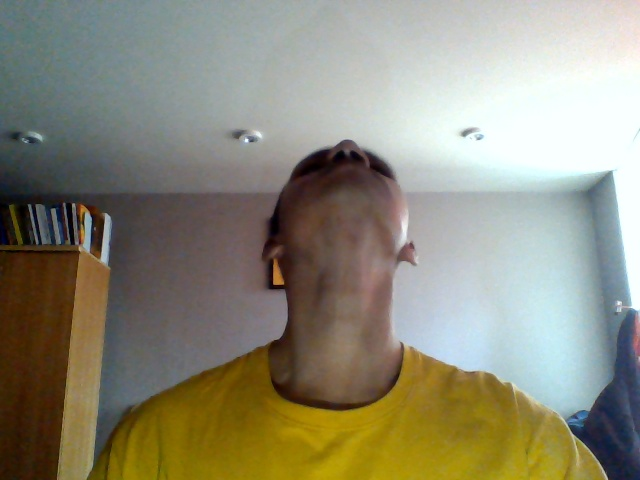no_mask: (267, 139, 423, 252)
